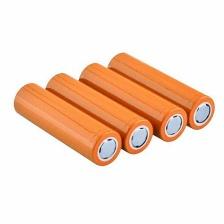battery: (10, 76, 124, 170), (41, 67, 158, 155), (101, 44, 215, 133), (76, 58, 191, 144)
